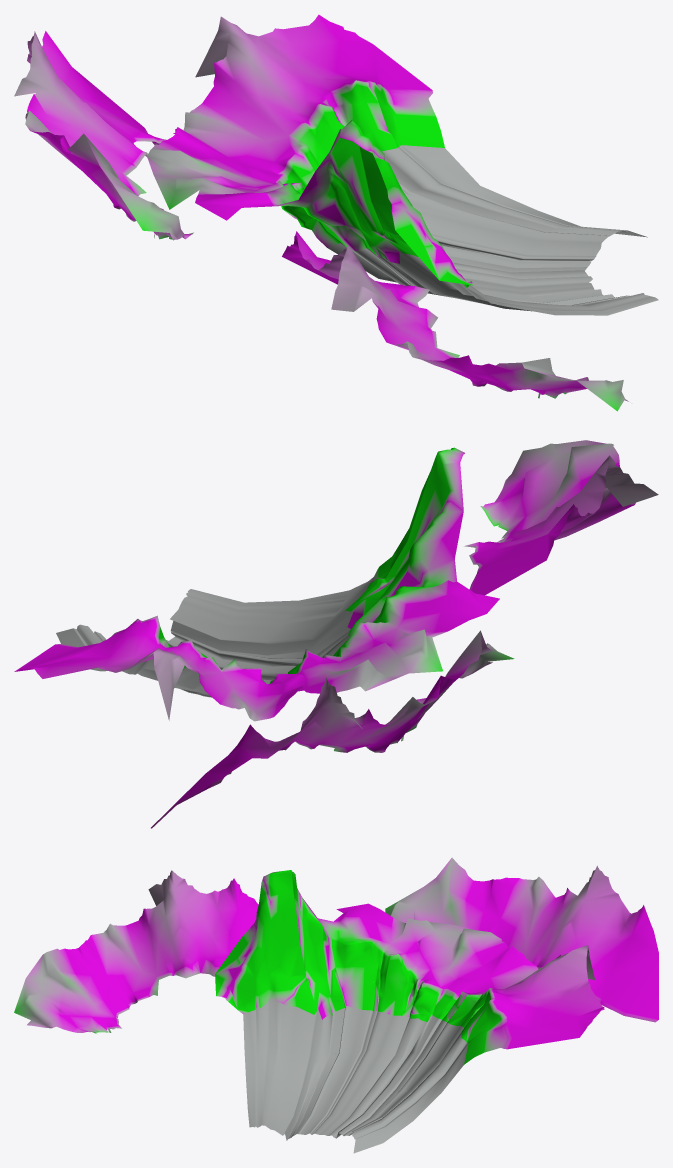
The picture shows the model from 3 angles, top to bottom: view 1: azimuth 30°, elevation 25°; view 2: azimuth 150°, elevation 25°; view 3: azimuth 270°, elevation 25°; orthographic projection. The views are drawn at different scales.
Visible parts, largest first — view 1: G:\FFXIV-MapTools\exports\f1f1\bg\ffxiv\fst_f1\fld\f1f1\bgpa (×2); view 2: G:\FFXIV-MapTools\exports\f1f1\bg\ffxiv\fst_f1\fld\f1f1\bgpa; view 3: G:\FFXIV-MapTools\exports\f1f1\bg\ffxiv\fst_f1\fld\f1f1\bgpa (×2).
Part boxes in pixels (x1,y1,x2,y2): G:\FFXIV-MapTools\exports\f1f1\bg\ffxiv\fst_f1\fld\f1f1\bgpa (×2): [14, 14, 658, 411]; G:\FFXIV-MapTools\exports\f1f1\bg\ffxiv\fst_f1\fld\f1f1\bgpa: [14, 440, 658, 828]; G:\FFXIV-MapTools\exports\f1f1\bg\ffxiv\fst_f1\fld\f1f1\bgpa (×2): [14, 857, 658, 1153].
Size of the model in its own units: 334 by 159 by 520.
